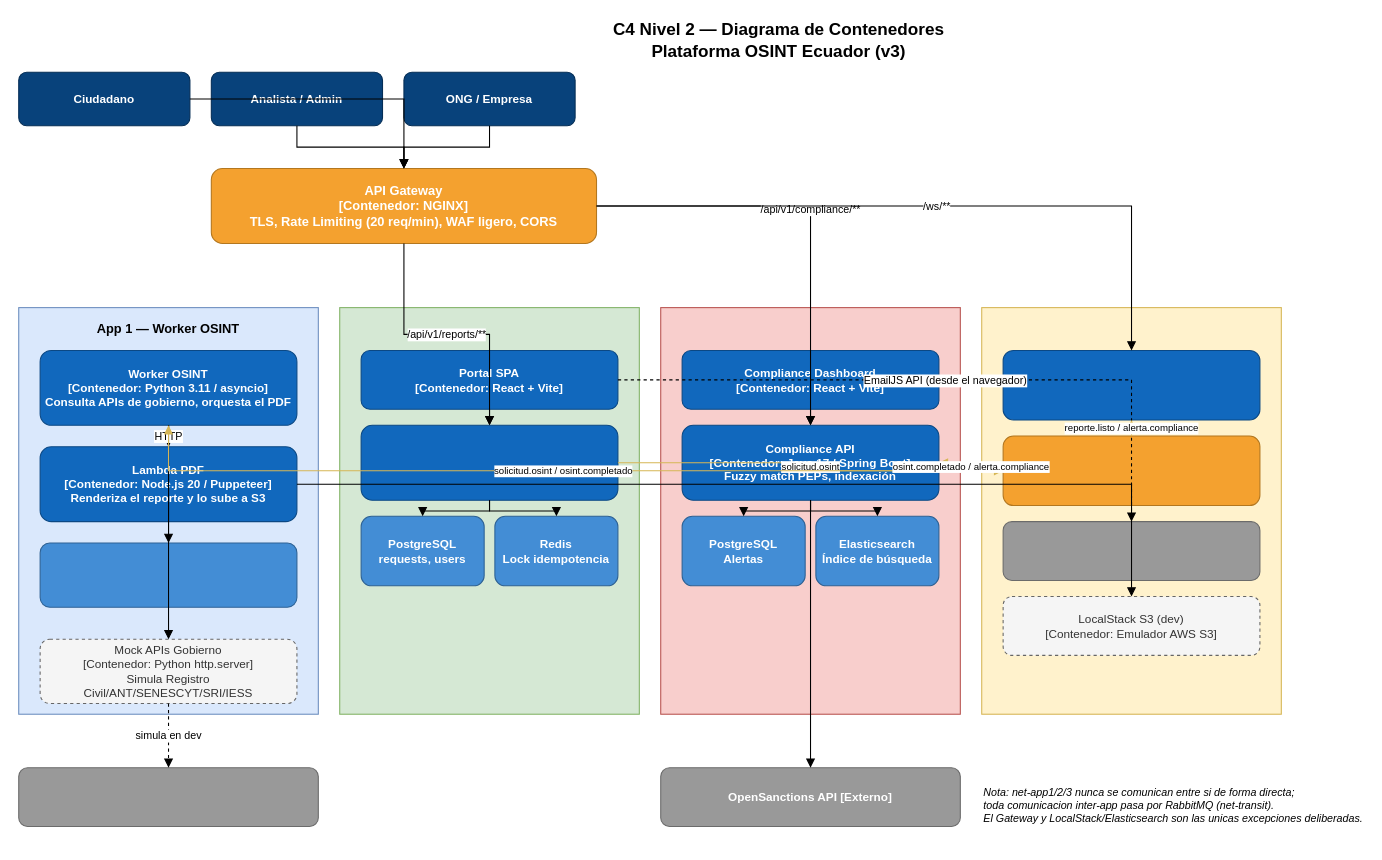
Image size: 1382x860. Some labels were removed from this diagram. The shapes that lost their labels are listed below. From the top down, each one's box as (x1, y1, x2, y2) in pixels, then its label:
(1002, 349, 1260, 420): Notificaciones [Contenedor: Java 17 / Spring Boot] WebSocket STOMP + Email
(360, 424, 618, 500): Portal API [Contenedor: Java 17 / Spring Boot] Idempotencia, orquestación, REST
(1002, 435, 1260, 506): RabbitMQ [Contenedor: Message Broker] Exchanges topic + DLX/DLQ
(339, 307, 639, 714): App 2 — Portal Ciudadano
(660, 307, 960, 714): App 3 — Compliance Engine
(981, 307, 1281, 714): App 4 — Plataforma Transversal (net-transit)
(1002, 521, 1260, 580): EmailJS + Gmail [Sistema Externo: SaaS de envío de correo]
(39, 542, 297, 607): MongoDB [Contenedor: Base de Datos] osint_raw_data
(18, 767, 318, 827): APIs Gobierno Ecuador [Externo]
